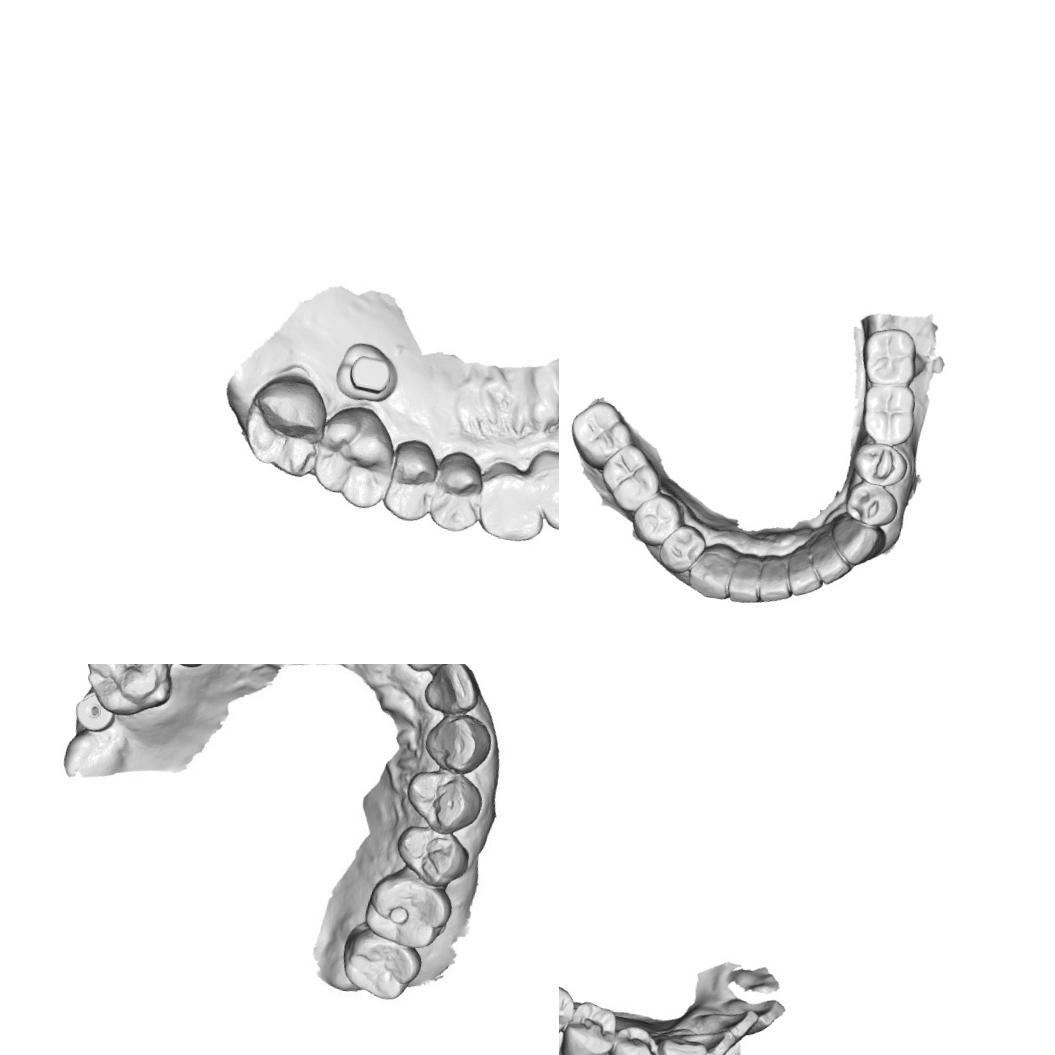canine: (476, 460, 552, 546), (424, 710, 491, 774), (684, 538, 742, 603), (826, 516, 888, 572), (645, 1032, 710, 1055)
incisor: (718, 990, 788, 1039), (690, 1000, 762, 1046), (422, 664, 476, 719), (724, 548, 770, 608), (530, 453, 559, 538), (781, 550, 828, 602), (807, 540, 855, 590), (754, 557, 796, 608), (678, 1022, 737, 1055)
molar: (230, 370, 336, 482), (306, 400, 401, 511), (363, 868, 451, 951), (342, 924, 420, 1004), (563, 395, 637, 474), (595, 439, 668, 517), (856, 378, 924, 450), (856, 321, 924, 393), (82, 664, 172, 718), (559, 964, 580, 1050)
premolar: (377, 436, 442, 526), (428, 447, 488, 538), (406, 766, 473, 825), (559, 996, 622, 1055), (629, 488, 687, 552), (398, 825, 460, 882), (848, 438, 913, 490), (840, 478, 902, 532), (656, 520, 710, 576), (603, 1020, 667, 1055)
